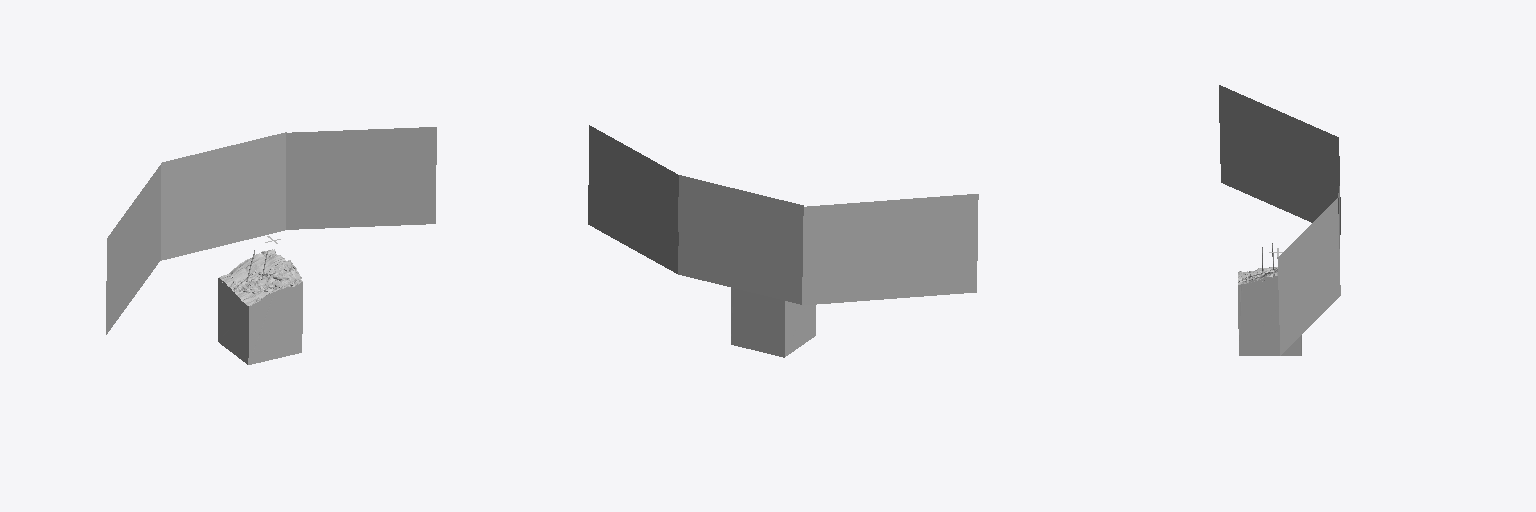
The model's file is oil.obj.
3 renders of one model, left to right at view 1: azimuth 30°, elevation 25°; view 2: azimuth 150°, elevation 25°; view 3: azimuth 270°, elevation 25°, orthographic.
Bounding box in the file's own units: 673 × 314 × 199.